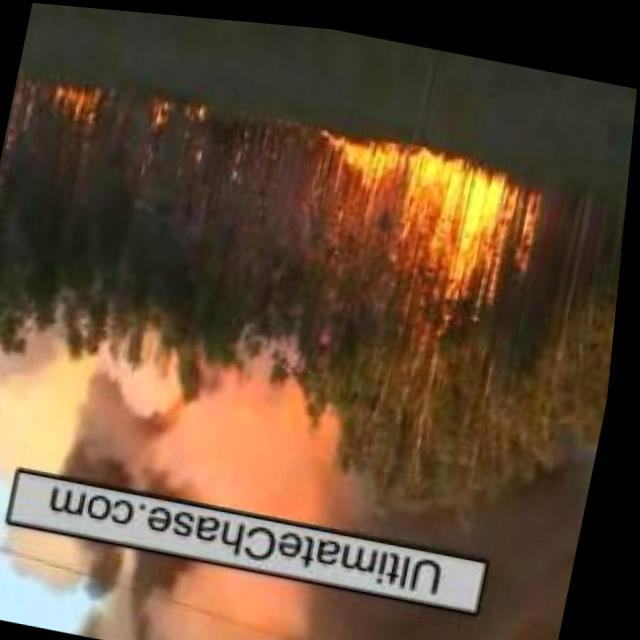fire: (305, 124, 547, 292), (39, 74, 105, 130), (148, 92, 208, 138)
